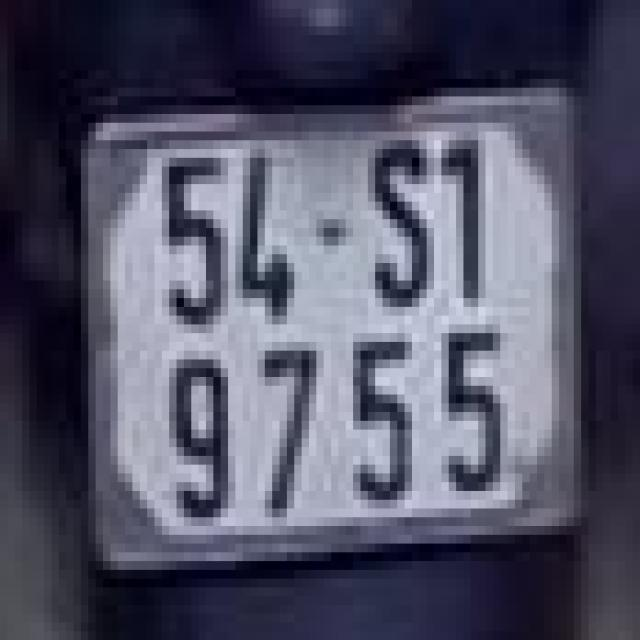1: (434, 118, 500, 312)
4: (236, 136, 302, 329)
5: (154, 136, 236, 337), (342, 329, 423, 513), (441, 316, 515, 500)
7: (250, 329, 324, 530)
9: (166, 346, 239, 539)
S: (364, 122, 438, 316)
